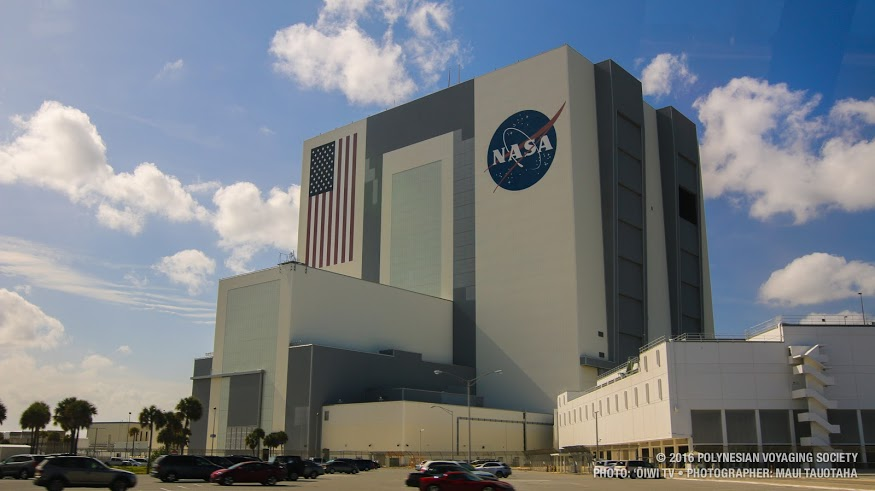NASA: (482, 97, 571, 196)
